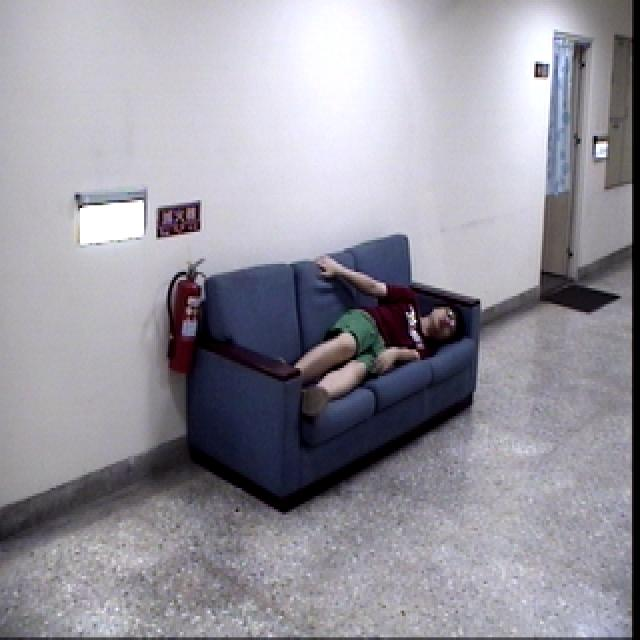lie: (268, 254, 466, 426)
